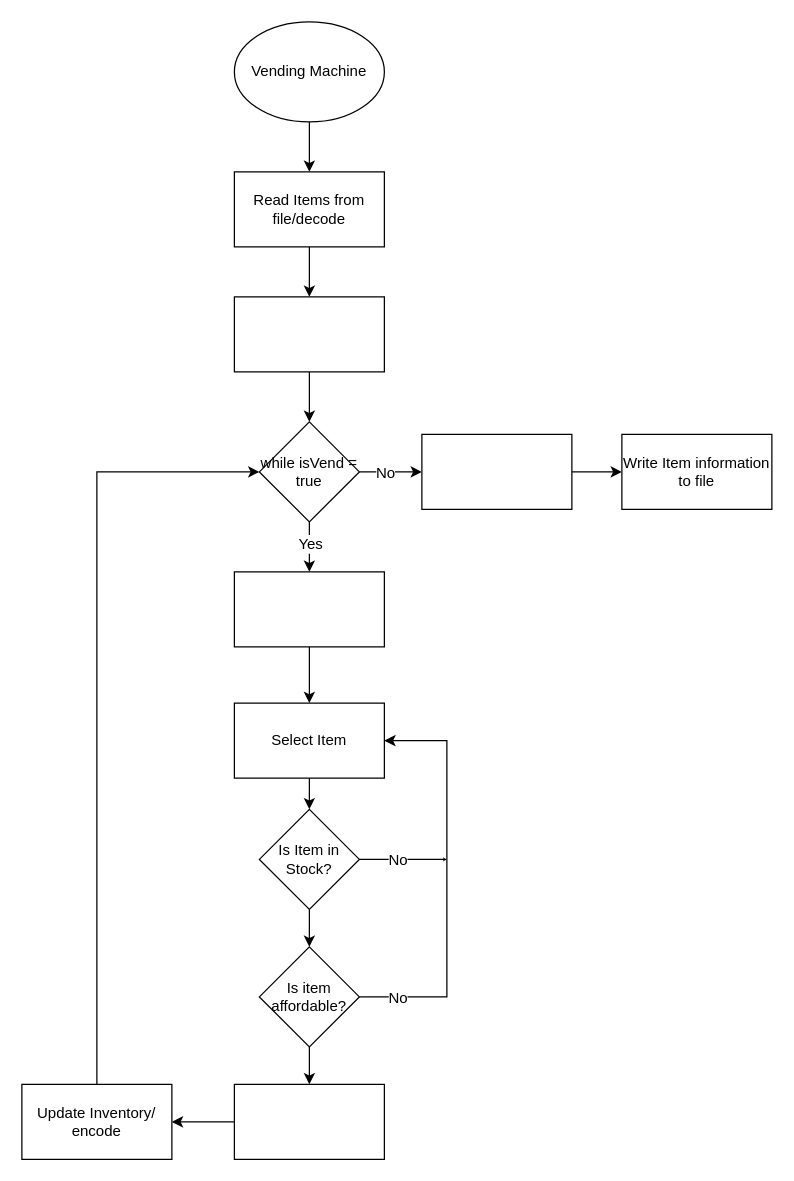
Image size: 794x1181. Some labels were removed from this diagram. The box of each missing label's shape, as (x1, y1, x2, y2) in pixels:
Calculate Amount Left Over: (233, 1083, 384, 1159)
Display Change Amount (Quarters, Dimes, Nickles and Pennies): (421, 433, 572, 509)
Display items (Item Name, Price and Amount Left): (233, 571, 384, 647)
Set isVend = true: (233, 296, 384, 372)
